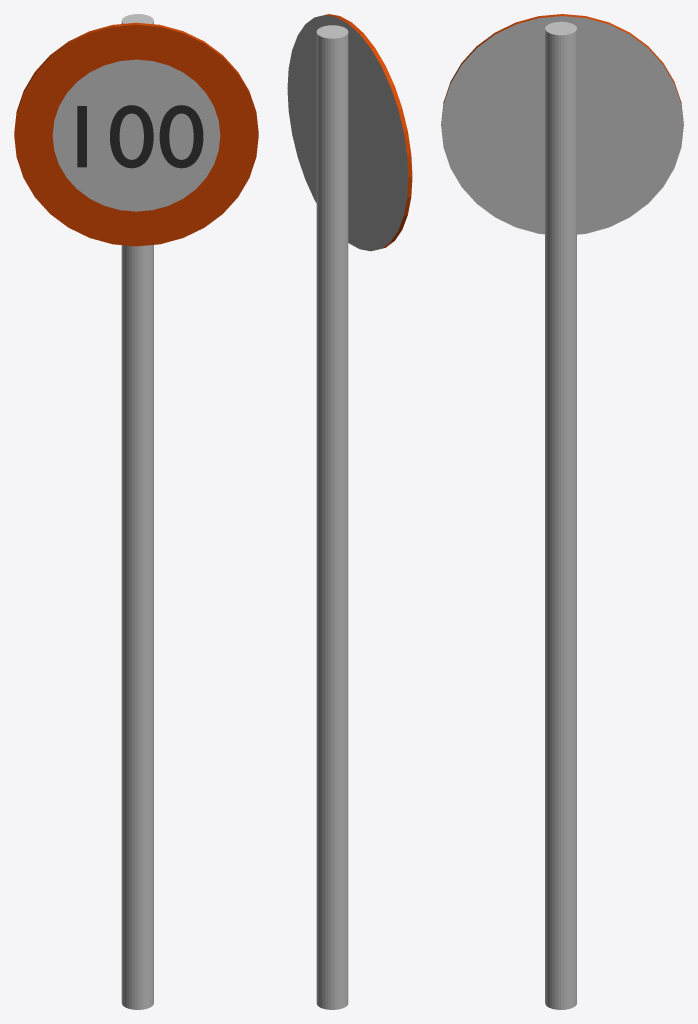
File: Speed Limit 100.fbx
3 renders of one model, left to right at view 1: azimuth 90°, elevation 25°; view 2: azimuth 210°, elevation 25°; view 3: azimuth 270°, elevation 25°, orthographic.
Parts seen in each view (by area): view 1: Text; view 2: Text; view 3: Text.
Boxes of the visible parts, bbox=[...] form: Text: bbox=[14, 14, 258, 1009]; Text: bbox=[287, 14, 412, 1009]; Text: bbox=[441, 14, 683, 1009].
Size of the model in its own units: 244 by 6762 by 1518.
